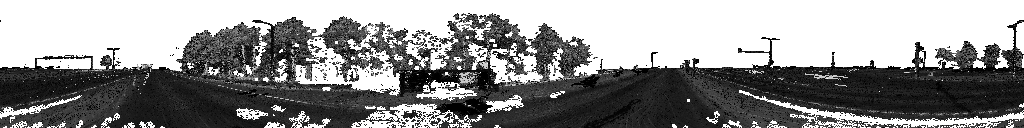gantry_sign_pole: (737, 37, 780, 66), (34, 55, 93, 68)
light_pole: (252, 20, 275, 82), (1007, 20, 1023, 68), (107, 48, 119, 68), (651, 52, 656, 63)
traffic_pole: (186, 62, 192, 72), (692, 58, 698, 66), (684, 60, 690, 66)
